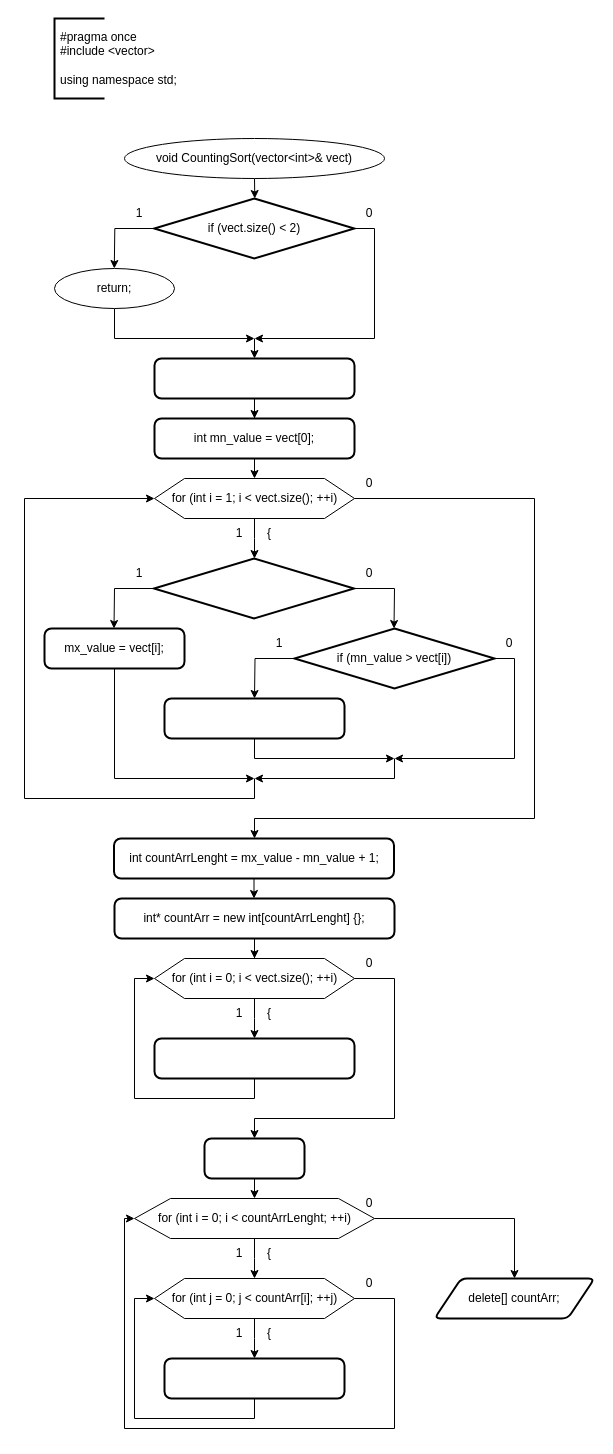
Image size: 613x1454. Some labels were removed from this diagram. The shapes that lost their labels are listed below. From the top down, each one's box as (x1, y1, x2, y2) in pixels, then its label:
(153, 357, 355, 399): int mx_value = vect[0];
(152, 557, 354, 619): if (mx_value < vect[i])
(163, 697, 345, 739): mn_value = vect[i];
(153, 1037, 355, 1079): countArr[vect[i] - mn_value]++;
(203, 1137, 305, 1179): int index = 0;
(163, 1357, 345, 1399): vect[index++] = i + mn_value;
